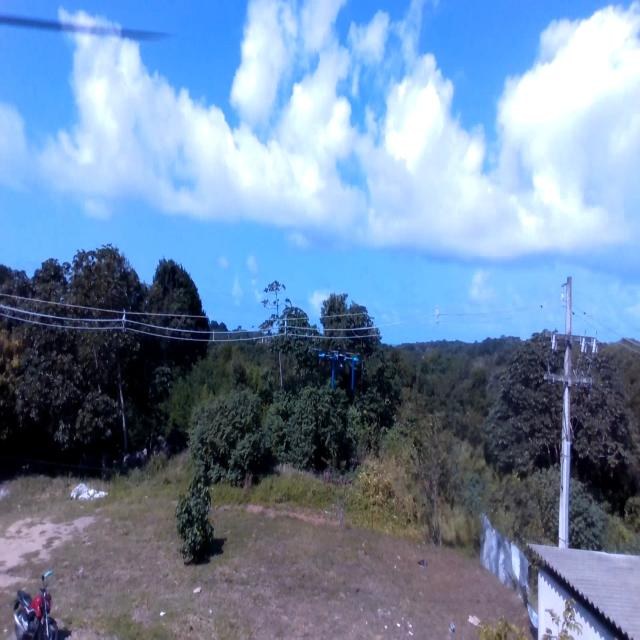-uav-: (312, 335, 368, 404)
